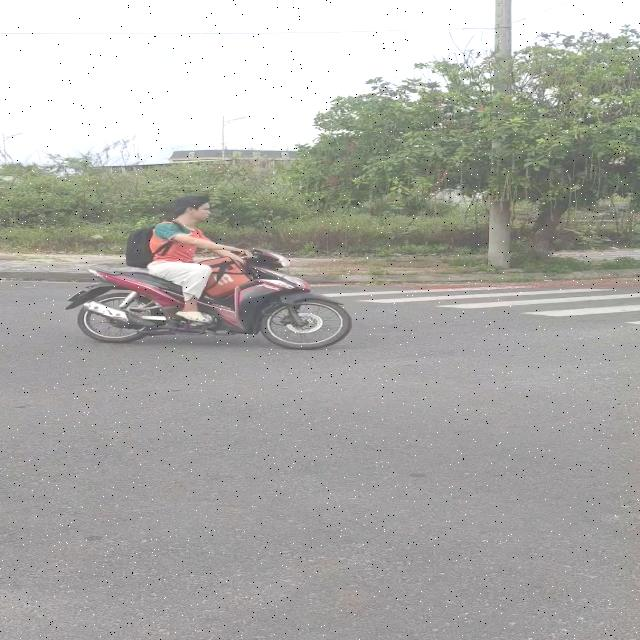no_helmet: (172, 192, 218, 230)
